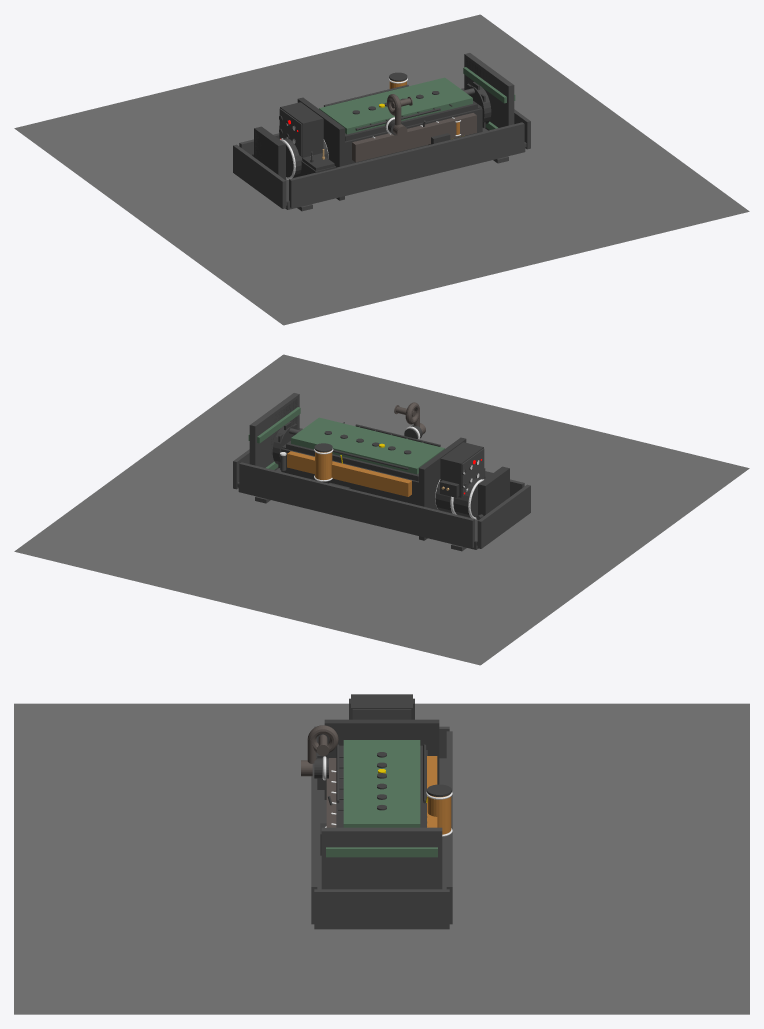
File: generatorfinal.glb
The picture shows the model from 3 angles, top to bottom: view 1: azimuth 30°, elevation 25°; view 2: azimuth 150°, elevation 25°; view 3: azimuth 270°, elevation 25°; orthographic projection. The views are drawn at different scales.
Parts seen in each view (by area): view 1: Floor, SideGuardL, ValveCover, ExhManifold, EndWallRear, Rad_Frame, PanelHousing, TermBox, FHCover, CylHead, EngBlock, PanelFace; view 2: Floor, SideGuardR, ValveCover, IntManifold, EndWallRear, Rad_Frame, FHCover, TermBox, EngBlock, PanelHousing, Alt_Main, CylHead (+1 smaller); view 3: Floor, Rad_Frame, ValveCover, EndWallFront, FHCover, Rad_TankTop, Skid_Main, PanelHousing, SideGuardR, SideGuardL, AirFilter, CylHead (+2 smaller).
Boxes of the visible parts, x1,y1,x2,y2 form: Floor: (14, 14, 749, 325); SideGuardL: (289, 122, 524, 207); ValveCover: (319, 77, 472, 134); ExhManifold: (352, 113, 476, 162); EndWallRear: (233, 144, 286, 208); Rad_Frame: (464, 53, 514, 130); PanelHousing: (280, 102, 323, 157); TermBox: (254, 126, 285, 180); FHCover: (297, 97, 344, 200); CylHead: (345, 101, 477, 141); EngBlock: (345, 108, 482, 165); PanelFace: (279, 108, 323, 156); Floor: (14, 354, 749, 665); SideGuardR: (239, 462, 474, 547); ValveCover: (291, 417, 444, 474); IntManifold: (287, 451, 411, 496); EndWallRear: (477, 484, 530, 548); Rad_Frame: (249, 393, 299, 470); FHCover: (419, 437, 466, 540); TermBox: (478, 466, 509, 520); EngBlock: (281, 448, 418, 505); PanelHousing: (440, 442, 483, 497); Alt_Main: (435, 478, 481, 518); CylHead: (286, 441, 418, 481); Floor: (14, 703, 749, 1014); Rad_Frame: (321, 827, 442, 889); ValveCover: (343, 740, 420, 827); EndWallFront: (314, 889, 449, 929); FHCover: (324, 719, 439, 799); Rad_TankTop: (326, 847, 437, 857); Skid_Main: (317, 758, 446, 889); PanelHousing: (351, 694, 412, 719); SideGuardR: (446, 731, 452, 924); SideGuardL: (311, 737, 317, 924); AirFilter: (427, 795, 451, 834); CylHead: (339, 745, 424, 827).
Size of the model in its own units: 10 by 1.97 by 10.
